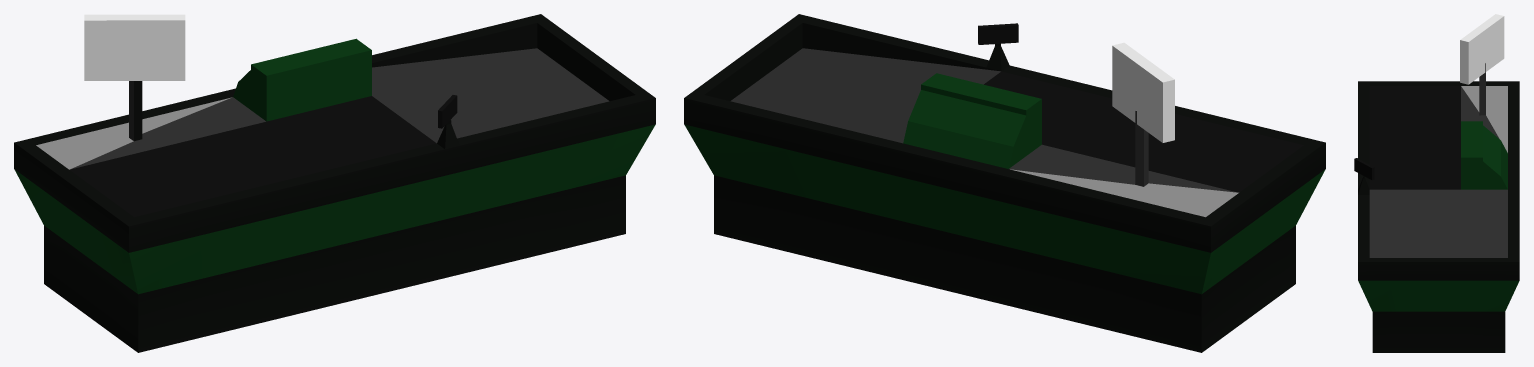
File: caja.FBX
The picture shows the model from 3 angles, left to right: view 1: azimuth 30°, elevation 25°; view 2: azimuth 150°, elevation 25°; view 3: azimuth 270°, elevation 25°; orthographic projection. The views are drawn at different scales.
Parts seen in each view (by area): view 1: Box004, Box005; view 2: Box004, Box005, pantallita; view 3: Box004, Box005, pantallita.
Boxes of the visible parts, box(x1,y1,x2,y2) form: Box004: box(14, 14, 655, 352); Box005: box(84, 14, 185, 80); Box004: box(684, 14, 1325, 352); Box005: box(1112, 42, 1174, 142); pantallita: box(978, 23, 1018, 44); Box004: box(1358, 63, 1519, 352); Box005: box(1460, 14, 1504, 84); pantallita: box(1354, 158, 1374, 180).
Size of the model in its own units: 25.75 by 12.15 by 9.94.
